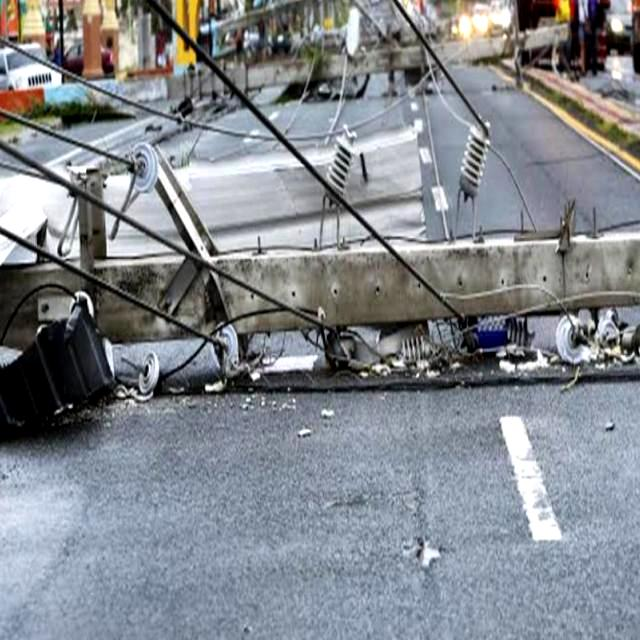Broken Pole: (2, 120, 638, 430)
